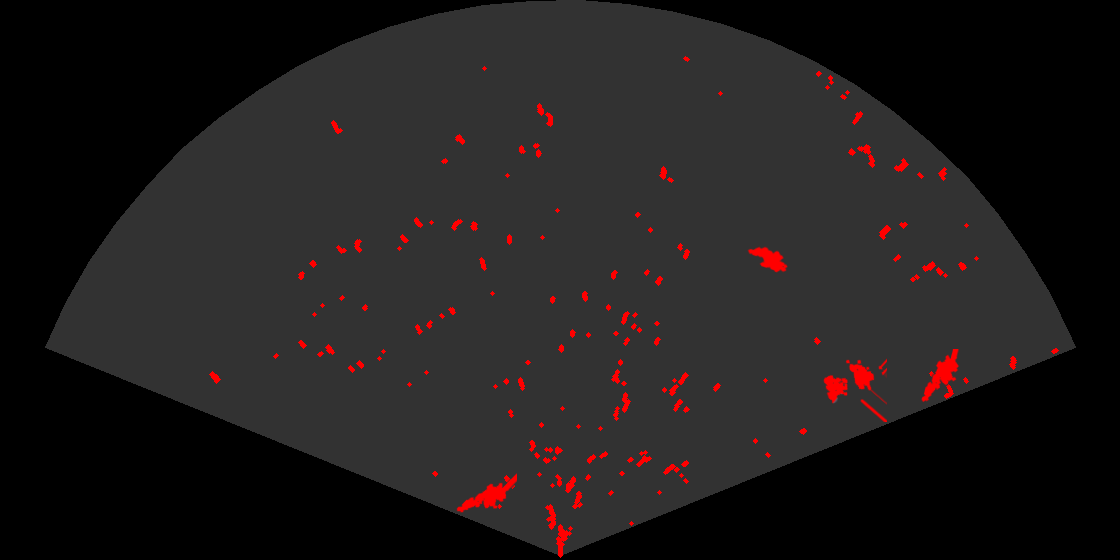AUV: (746, 245, 789, 274)
cage: (822, 357, 887, 422)
frogman: (455, 472, 517, 514), (920, 349, 961, 404)
